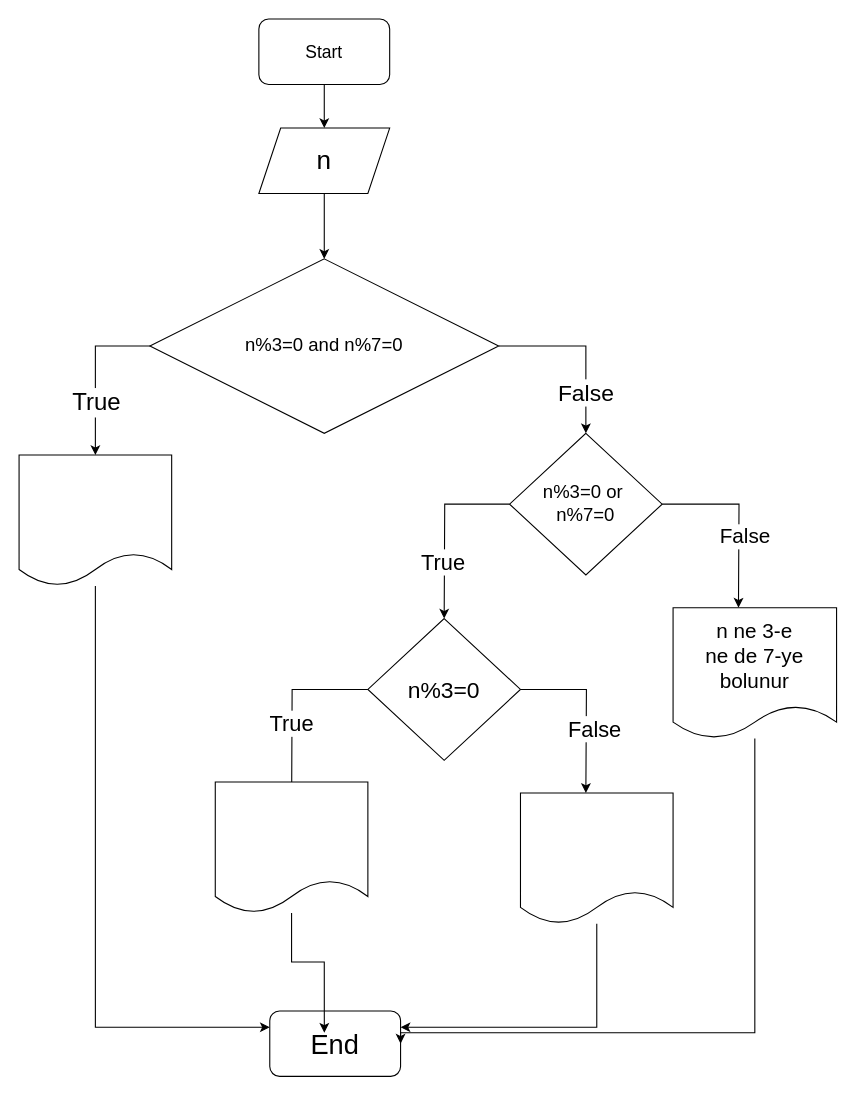
This 856x1095 diagram has some shape labels left out. Here are the shapes that lost their labels. From the top down, the centre of each, then its label:
the point at 95,520: n hem 3-e hem de 7-ye bolunur
the point at 291,847: Eded yanliz 3-e bolunur
the point at 596,858: Eded yanliz 7-ye bolunur
